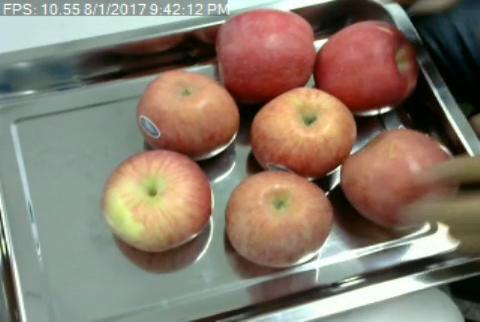apple: (104, 150, 212, 252), (225, 170, 335, 267), (342, 131, 450, 229), (315, 22, 418, 112), (251, 89, 356, 174), (137, 71, 237, 157), (219, 11, 315, 91)
